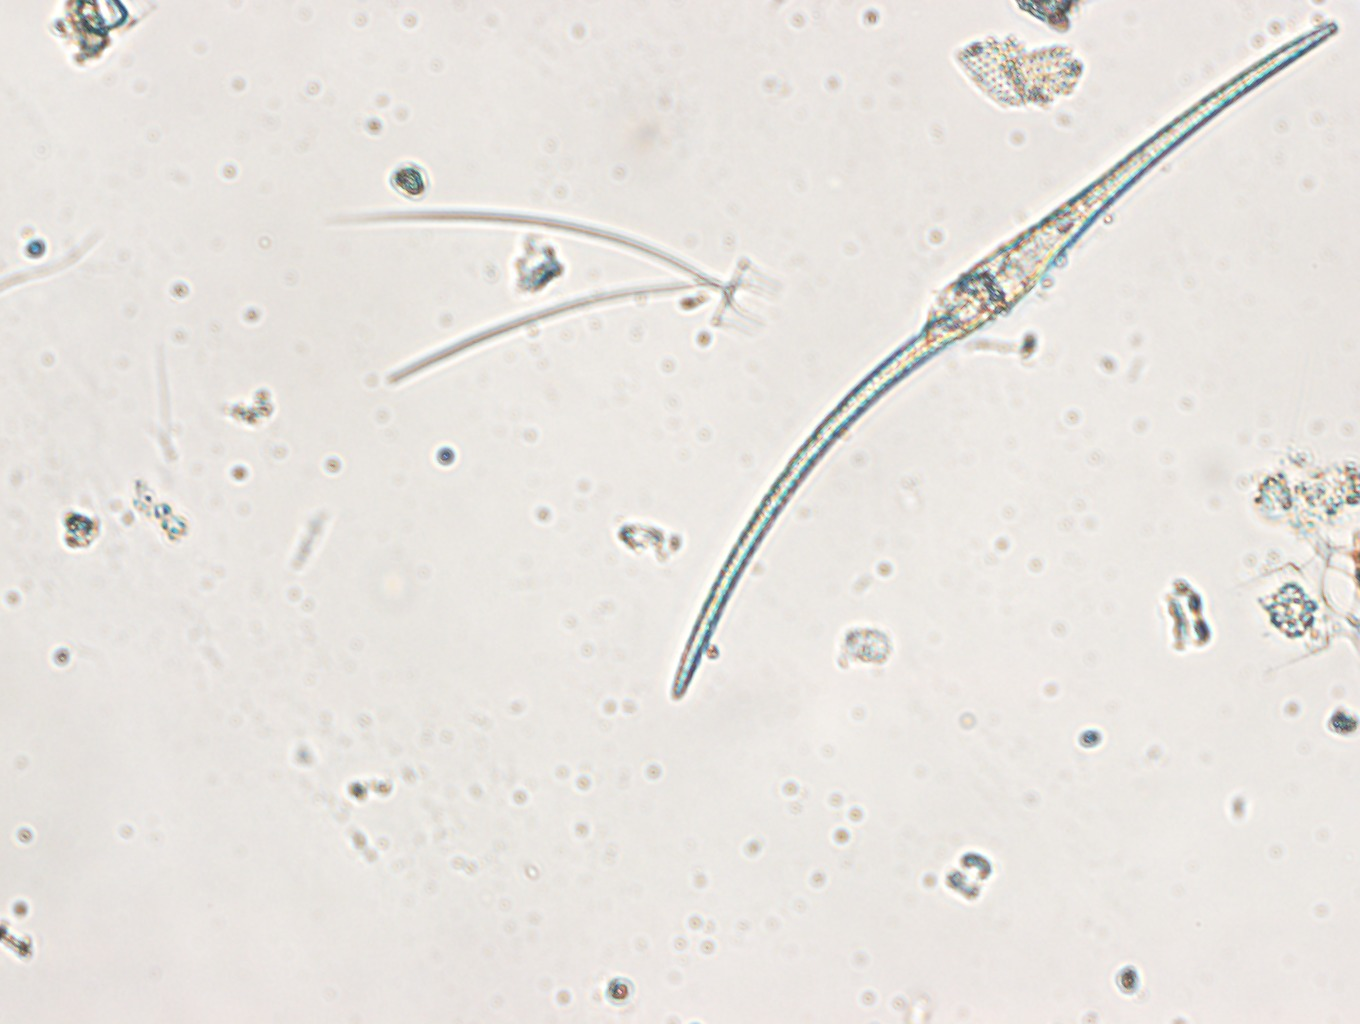ceratium fusus: (664, 9, 1335, 702)
